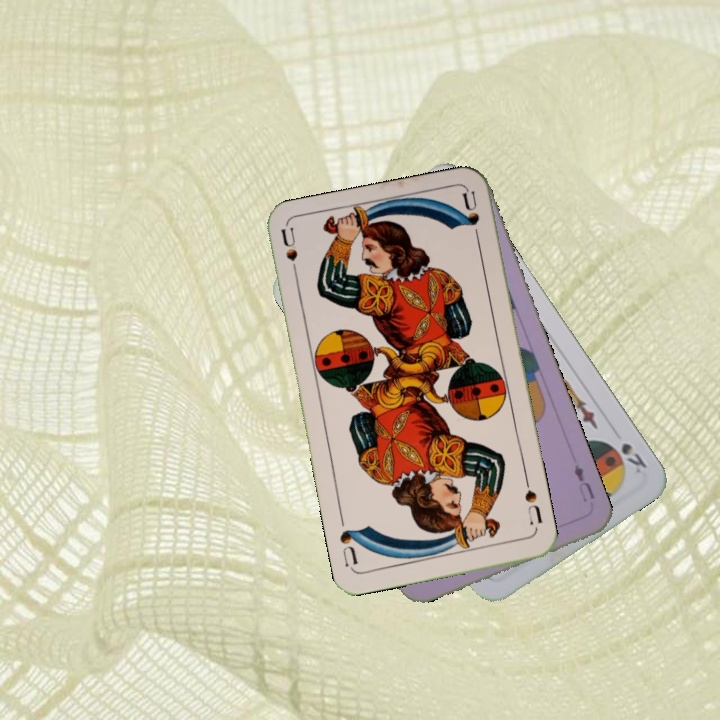EU: (569, 460, 598, 504)
SK: (617, 438, 650, 476)
SU: (277, 225, 302, 285), (521, 475, 545, 527)
